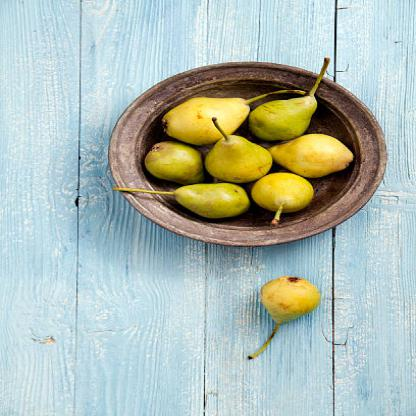Paer: (255, 272, 314, 352), (151, 99, 268, 136), (209, 128, 269, 183)
